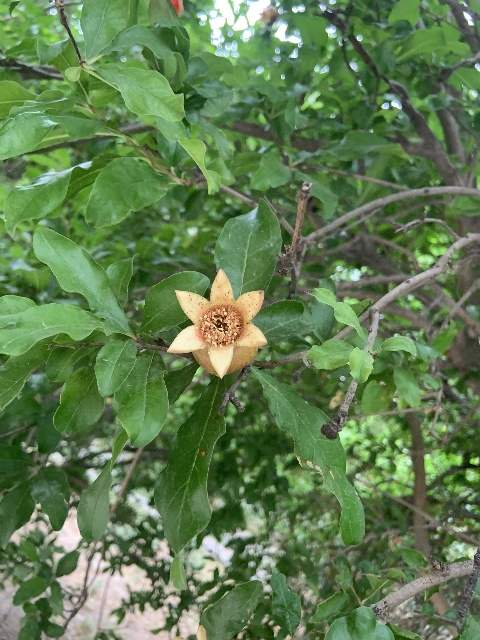early-fruit: (167, 268, 267, 377)
